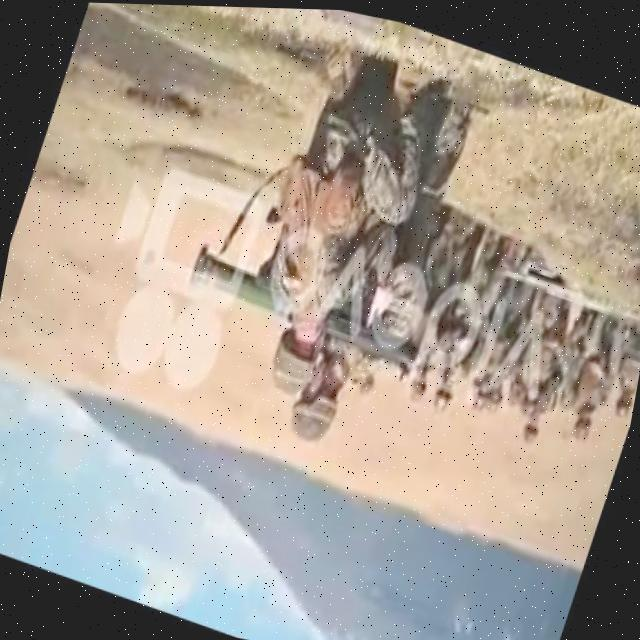rocket: (172, 240, 426, 378)
